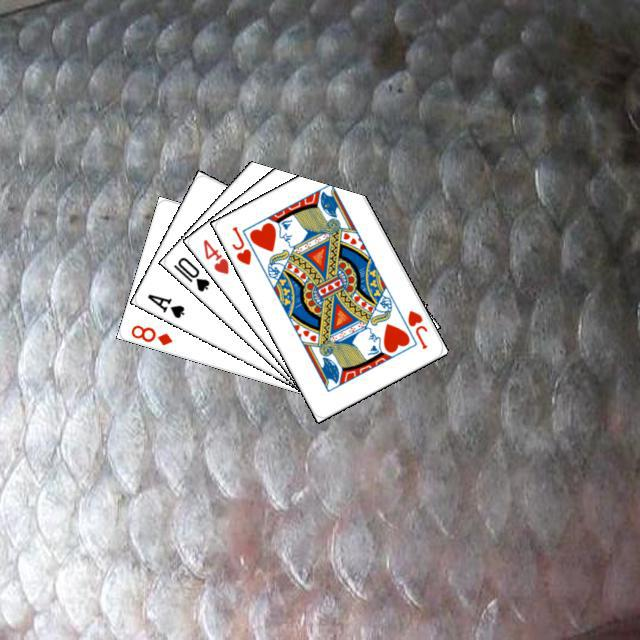10s: (168, 252, 211, 294)
4h: (198, 234, 231, 276)
8d: (126, 320, 174, 347)
As: (142, 289, 186, 320)
Jh: (227, 221, 253, 267), (403, 305, 429, 351)
